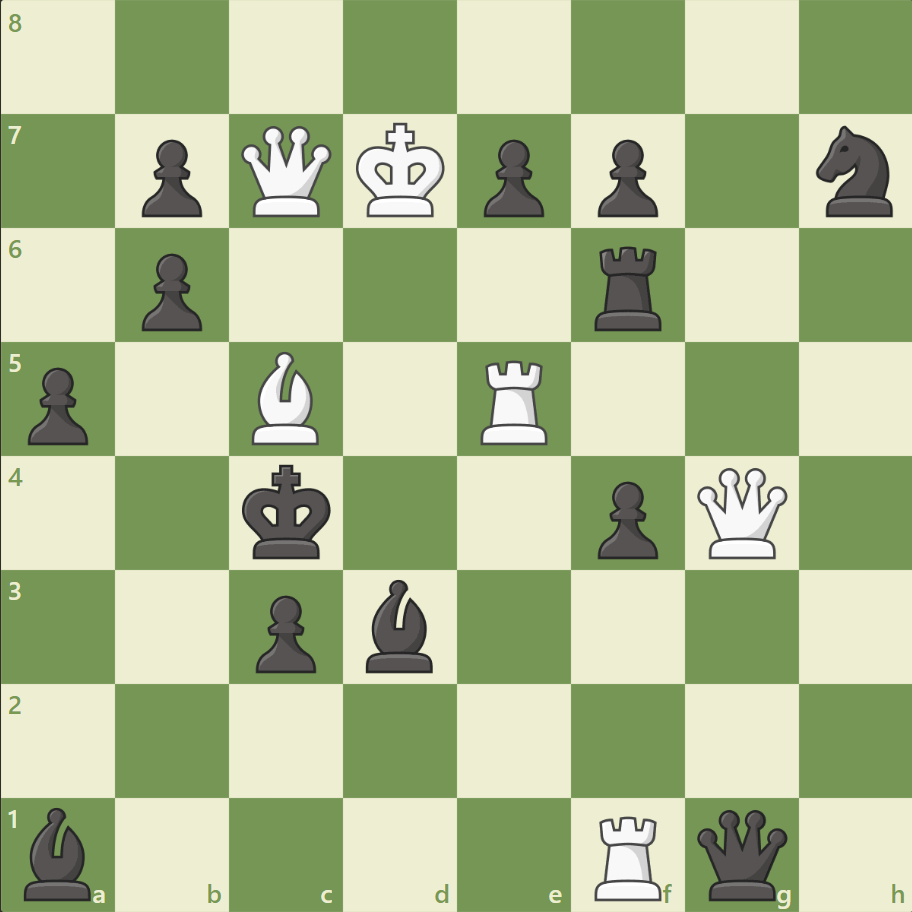B: (244, 347, 328, 449)
K: (351, 117, 451, 225)
Q: (237, 122, 336, 222), (691, 463, 790, 562)
R: (587, 806, 670, 904), (473, 352, 556, 449)
b: (17, 801, 101, 904), (358, 574, 442, 676)
k: (238, 458, 338, 566)
n: (806, 121, 903, 223)
p: (133, 132, 208, 223), (474, 132, 549, 223), (133, 246, 208, 337), (20, 359, 95, 450), (247, 586, 322, 677), (588, 132, 662, 223), (588, 473, 662, 564)
q: (691, 804, 790, 903)
r: (587, 239, 670, 336)
